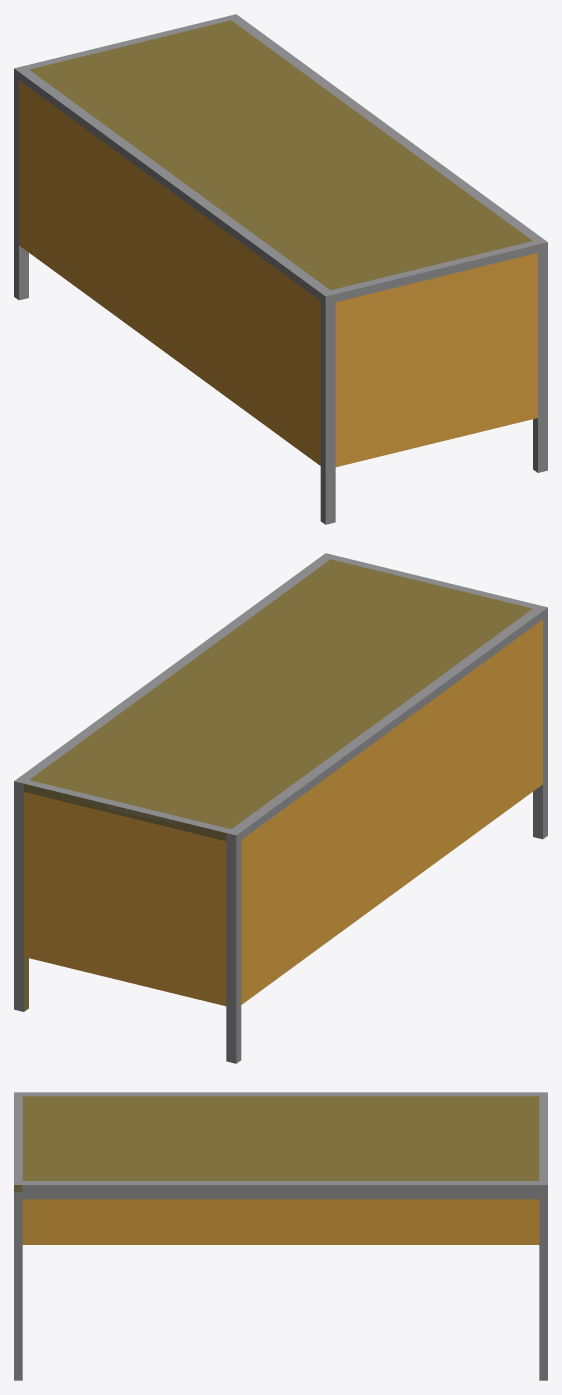
File: desk.glb
3 views of the same model, one above another, from view 1: azimuth 30°, elevation 25°; view 2: azimuth 150°, elevation 25°; view 3: azimuth 270°, elevation 25° (orthographic). The views are drawn at different scales.
Visible parts, largest first — view 1: Cube; view 2: Cube; view 3: Cube.
Boxes of the visible parts, box(x1,y1,x2,y2) form: Cube: box(14, 14, 547, 524); Cube: box(14, 553, 547, 1063); Cube: box(14, 1092, 547, 1380).
Size of the model in its own units: 6.34 by 6.22 by 15.4.
